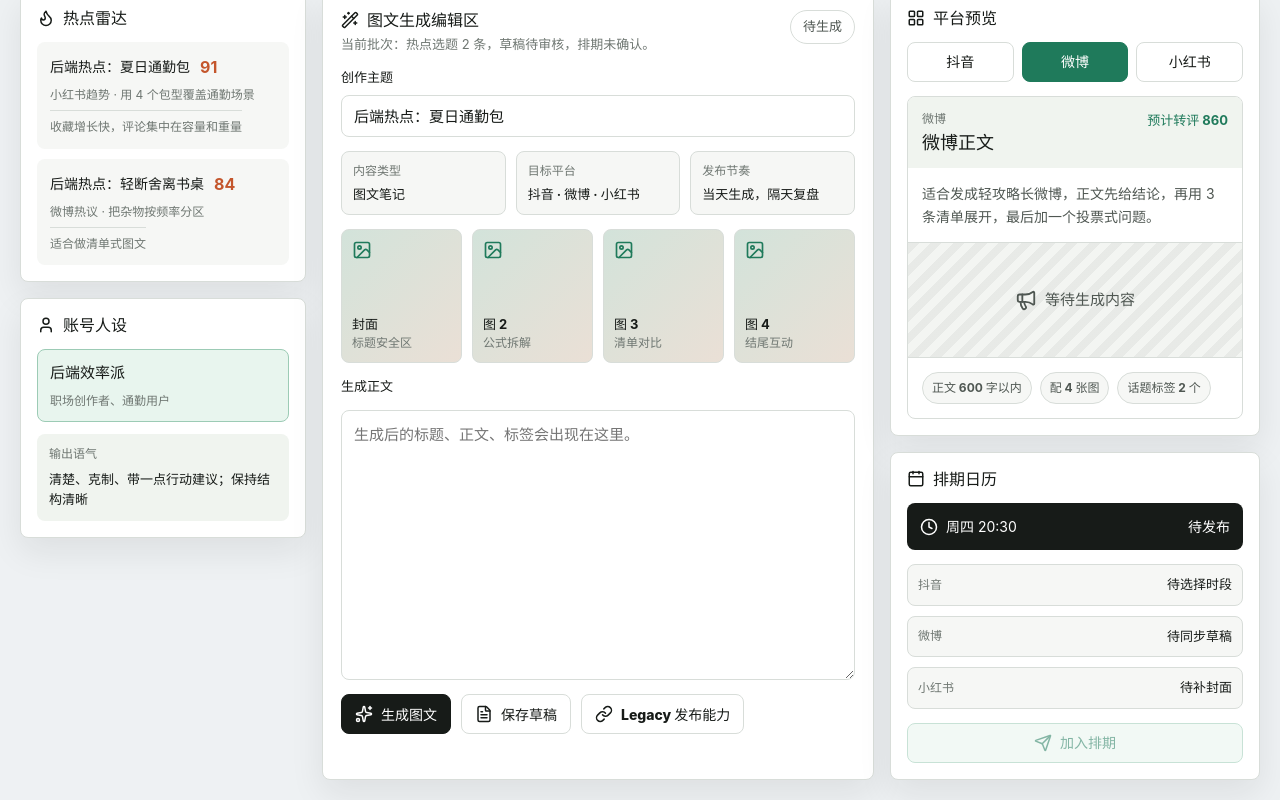
Scenario: MindFlow AI workbench prototype › shows backend errors instead of silently falling back to mock persistence
(page scrolled)
Expected: the text "后端效率派" is shown, [50,362,125,385]
Click the button "生成图文" at (396, 714), box [341,694,451,734]
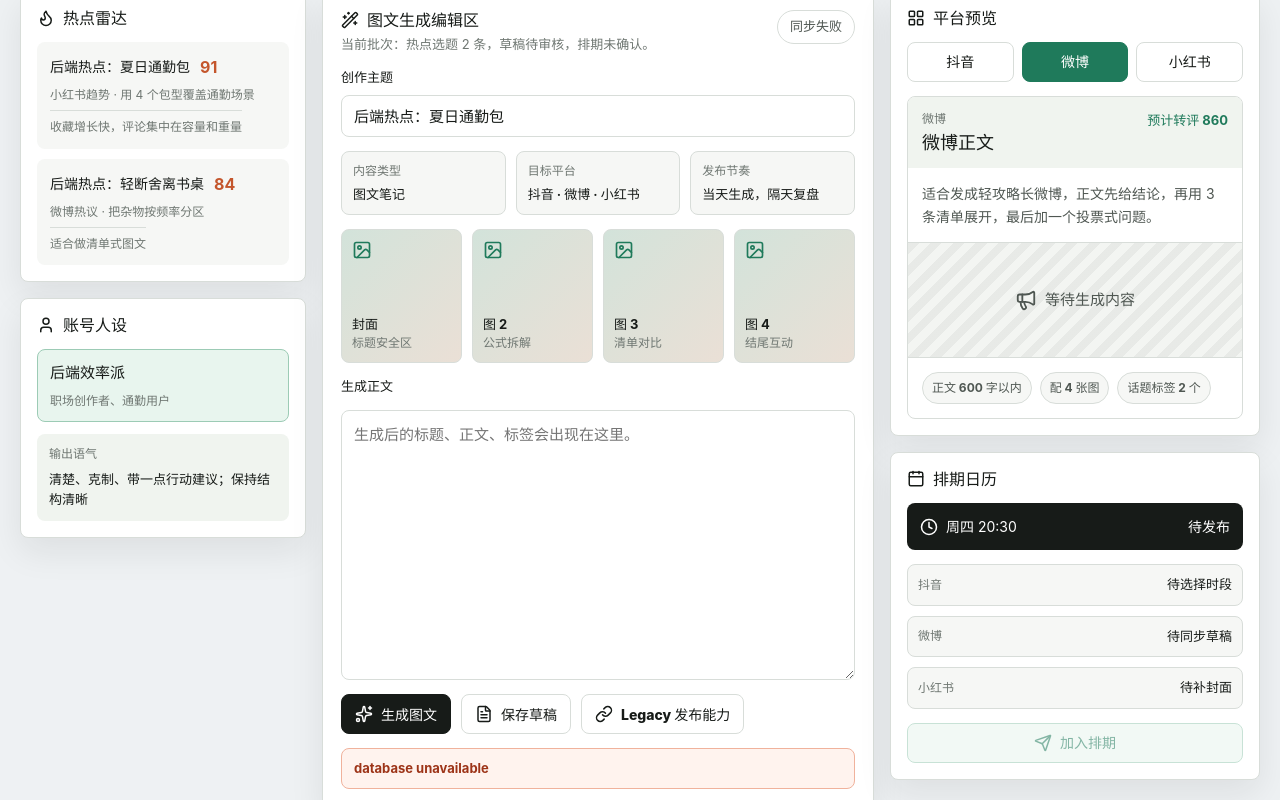
Expected: the message reads "database unavailable", [354,760,489,776]
